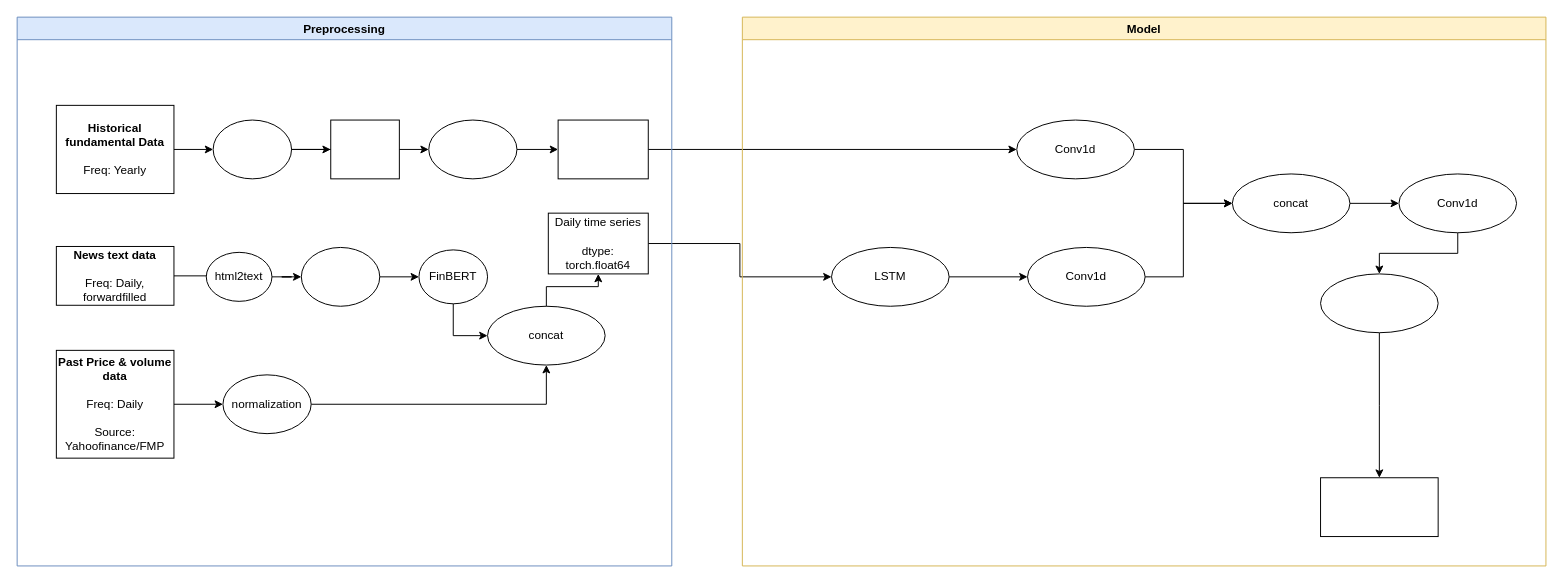
This 1563x583 diagram has some shape labels left out. Each missing label, with the centre of its shape:
"0-padding" belongs at pixel 252 149.
"autoencoder" belongs at pixel 472 149.
"BERT Tokenizer" belongs at pixel 340 276.
"Dimensions: (N, 50, 80) float64" belongs at pixel 364 149.
"latent representation" belongs at pixel 602 149.
"maxpool" belongs at pixel 1379 303.
"prediction" belongs at pixel 1379 507.
